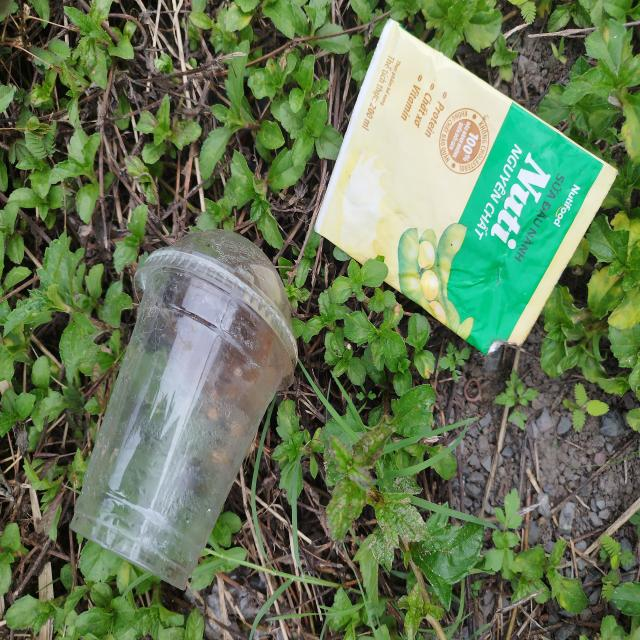packet: (315, 17, 618, 356)
plastic glass: (69, 228, 298, 591)
